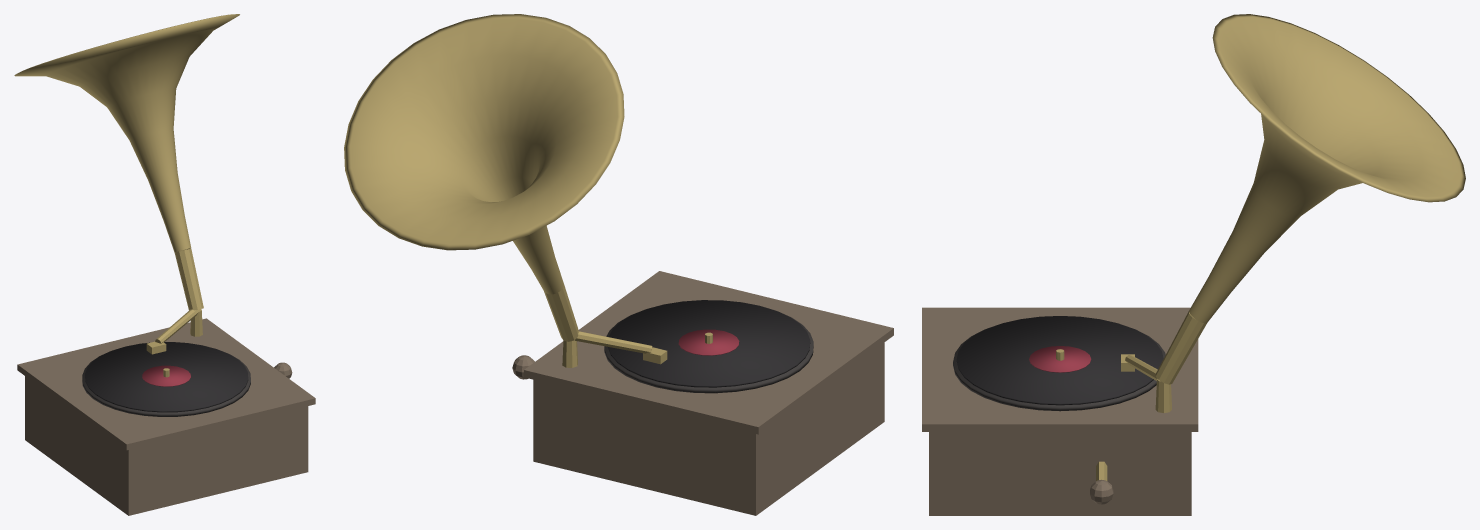
The model's file is Gramophone.fbx.
3 renders of one model, left to right at view 1: azimuth 30°, elevation 25°; view 2: azimuth 150°, elevation 25°; view 3: azimuth 270°, elevation 25°, orthographic. The views are drawn at different scales.
Visible parts, largest first — view 1: Gramophone; view 2: Gramophone; view 3: Gramophone.
Boxes of the visible parts, box(x1,y1,x2,y2) form: Gramophone: box(14, 14, 315, 515); Gramophone: box(344, 14, 893, 515); Gramophone: box(922, 14, 1465, 515).
Bounding box in the file's own units: 56.5 × 74.49 × 78.71.
